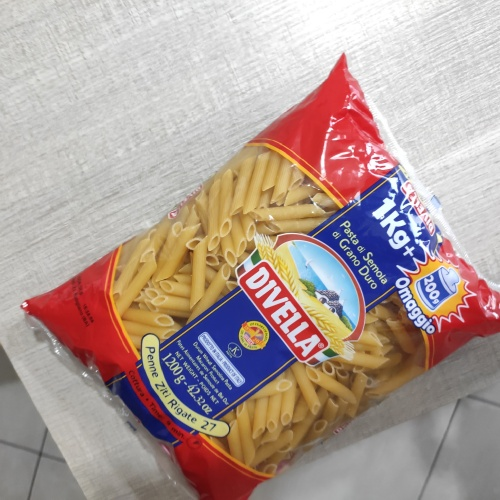pasta: (145, 138, 468, 460)
